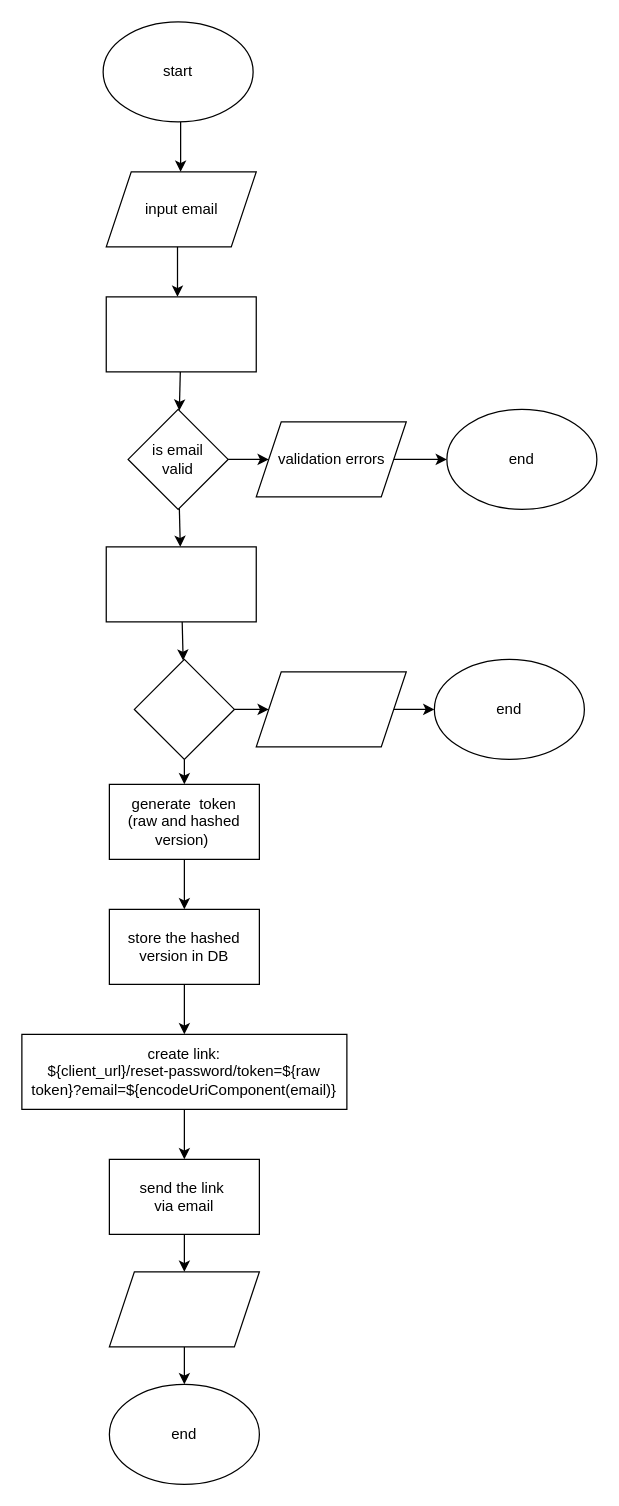
The diagram is 619 pixels wide and 1506 high, and some of its shapes have lost their labels. Here are the shapes that lost their labels. From the top down, the box of each, then its label:
(105, 296, 256, 372): validate email
(105, 546, 256, 622): find account associated with the email
(133, 658, 234, 759): is account found
(255, 671, 406, 747): user not found
(108, 1271, 259, 1347): an email sent
